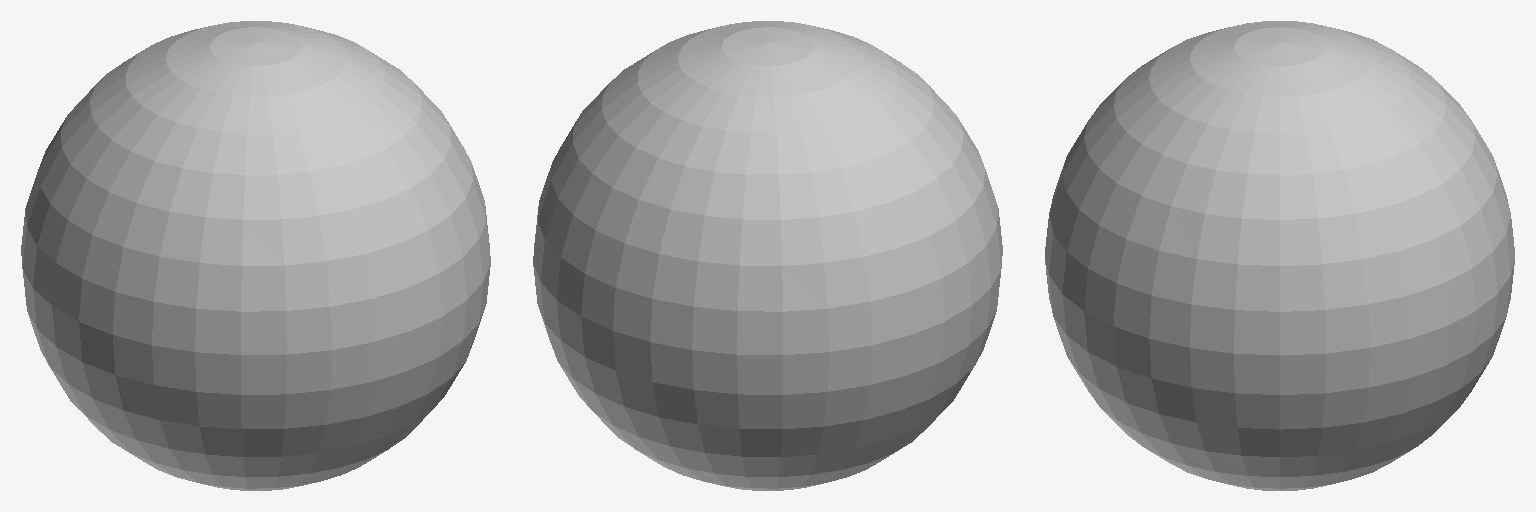
The model's file is particle.obj.
3 views of the same model, side by side, from view 1: azimuth 30°, elevation 25°; view 2: azimuth 150°, elevation 25°; view 3: azimuth 270°, elevation 25° (orthographic).
Parts seen in each view (by area): view 1: SM_GreenBall_SM_GreenBall.001; view 2: SM_GreenBall_SM_GreenBall.001; view 3: SM_GreenBall_SM_GreenBall.001.
Part boxes in pixels (bbox=[...]): SM_GreenBall_SM_GreenBall.001: bbox=[21, 21, 490, 490]; SM_GreenBall_SM_GreenBall.001: bbox=[533, 21, 1002, 490]; SM_GreenBall_SM_GreenBall.001: bbox=[1045, 21, 1514, 490].
Bounding box in the file's own units: 0.0163 × 0.0163 × 0.0163.